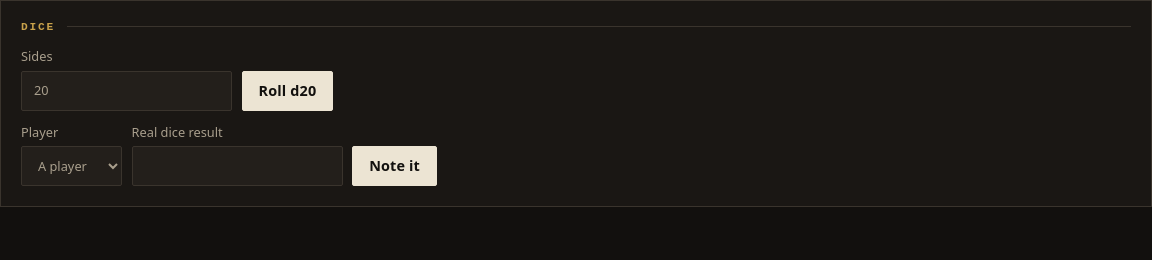
Test: DiceBar › refuses  sides
The width and height of the screenshot is (1152, 260).
Step 1. Clear the field with test id "dice-sides" → (126, 91), box x1=21 y1=71 x2=232 y2=111
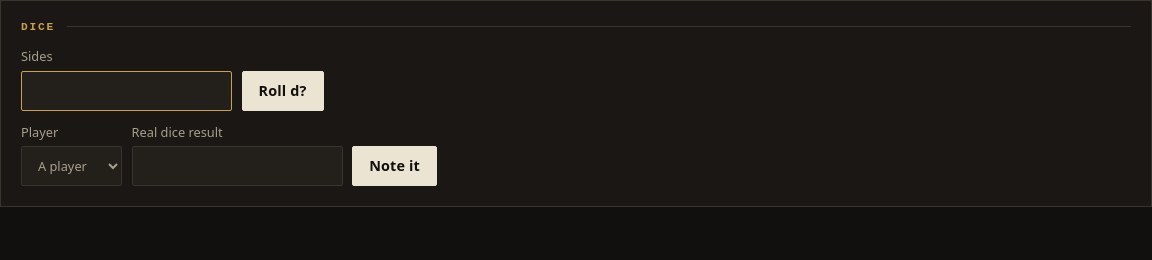
Step 2. Click the button with test id "dice-roll" → (283, 91), box x1=242 y1=71 x2=324 y2=111
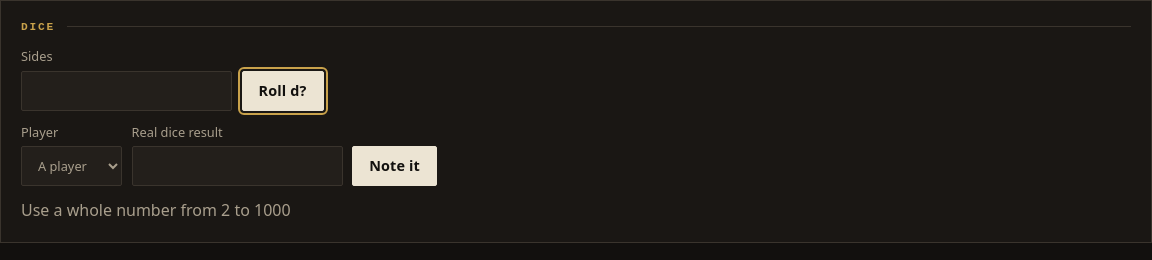
Expected: the text with test id "dice-error" shows "whole number", x1=21 y1=199 x2=291 y2=221
